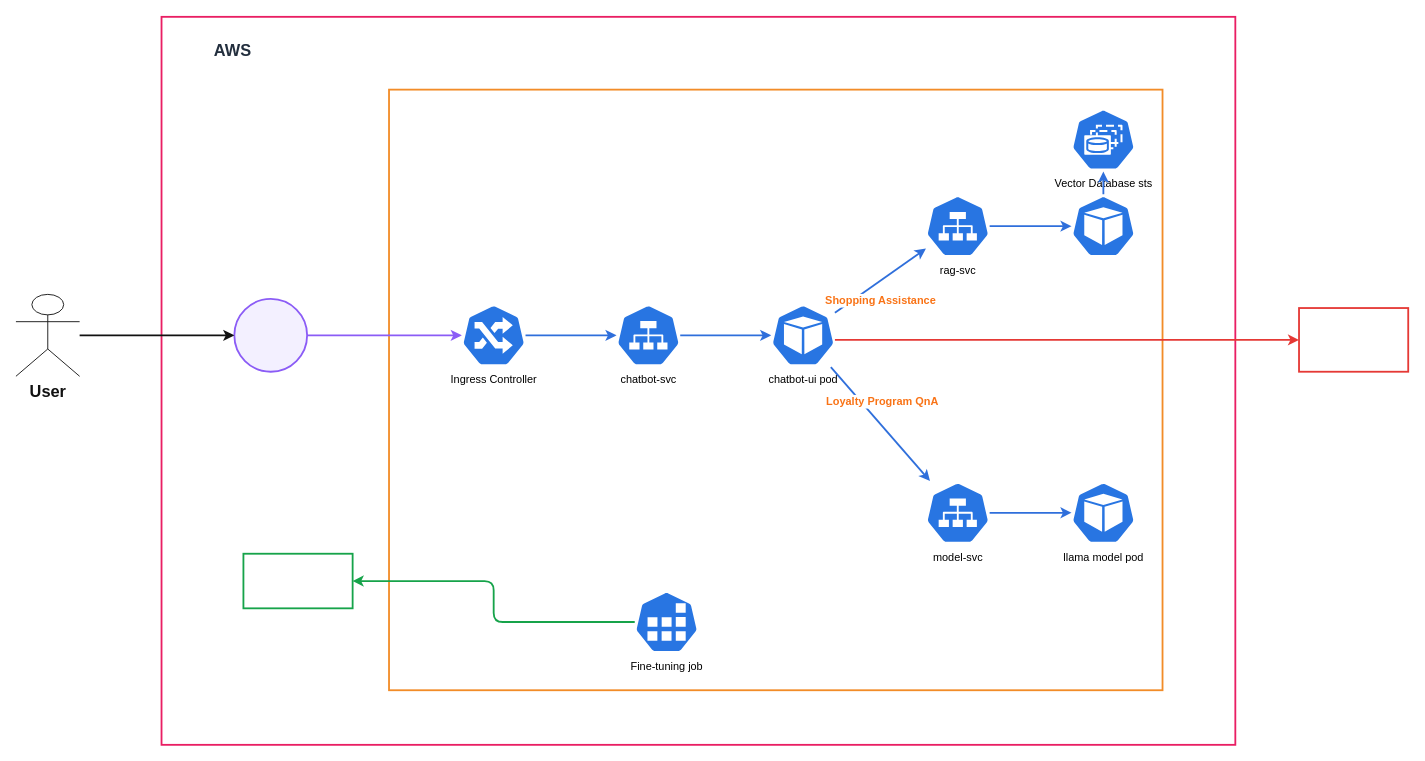
Some shapes in this 1425 by 761 pixel diagram are drawn without their labels. Here are the shapes that lost their labels. From the top down, the box of each, then its label:
(1071, 193, 1135, 258): rag app pod
(233, 298, 308, 372): NLB
(1298, 307, 1409, 372): google.com
(388, 88, 1163, 691): EKS
(242, 552, 353, 609): S3 Bucket
